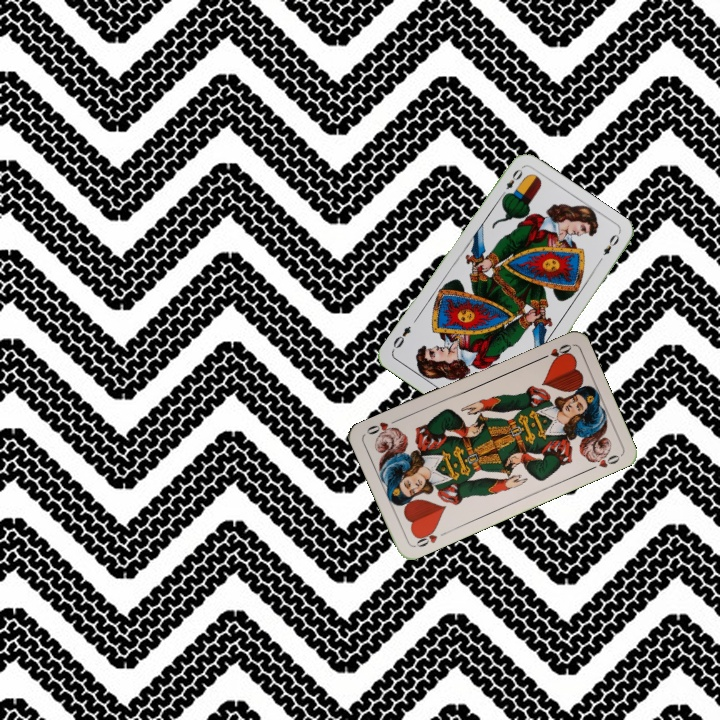EO: (496, 165, 525, 200)
HO: (411, 524, 450, 550), (535, 340, 574, 363)
